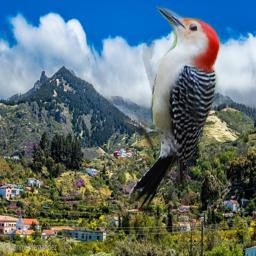Woodpecker: (124, 6, 221, 212)
